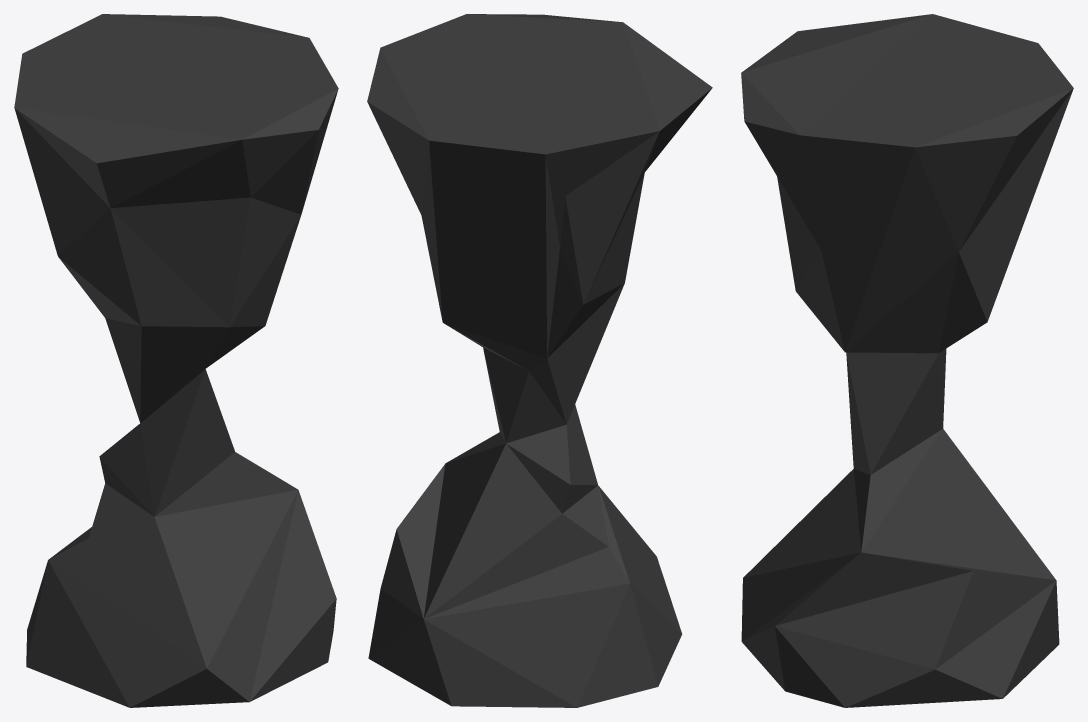
The model's file is Stal_3A_LOD.fbx.
3 renders of one model, left to right at view 1: azimuth 30°, elevation 25°; view 2: azimuth 150°, elevation 25°; view 3: azimuth 270°, elevation 25°, orthographic.
Visible parts, largest first — view 1: Group56715; view 2: Group56715; view 3: Group56715.
Part boxes in pixels (x1=…): Group56715: x1=14, y1=14, x2=338, y2=707; Group56715: x1=367, y1=14, x2=712, y2=707; Group56715: x1=741, y1=14, x2=1073, y2=707.
Bounding box in the file's own units: 3.04 × 5.77 × 3.06.
